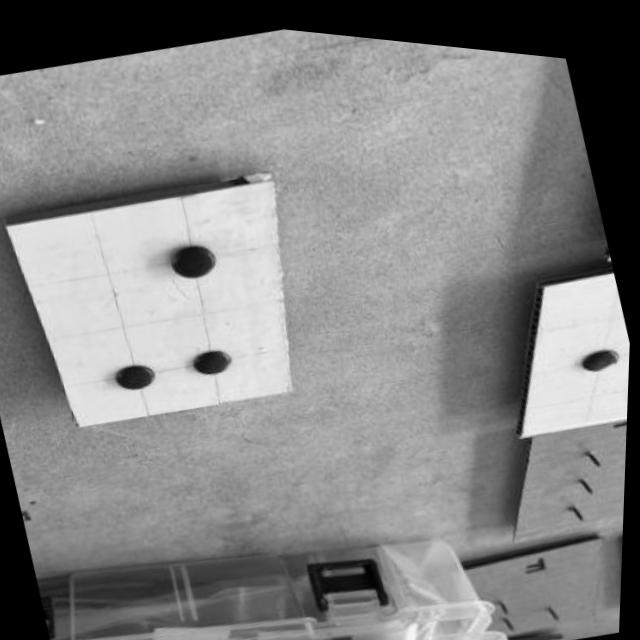braiile: (12, 180, 294, 423)
